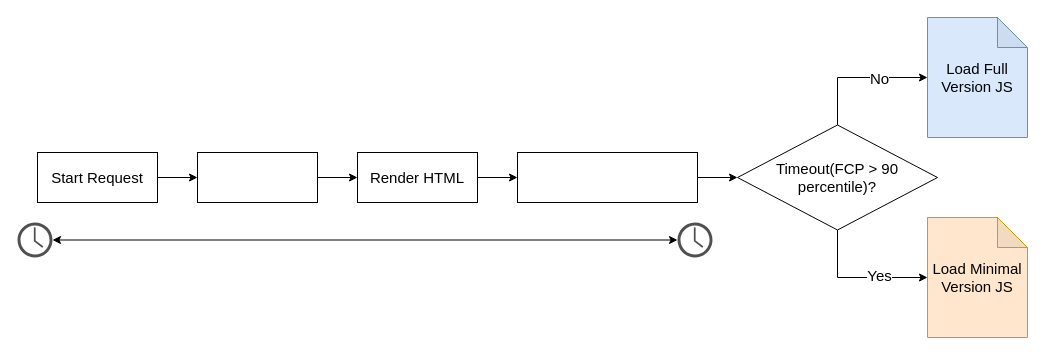
Some shapes in this 1045 by 355 pixel diagram are drawn without their labels. The shapes that lost their labels are listed below. From the top down, each one's centre as x and y in pixels, then its label:
point 257,177: Respond
point 607,177: First Contentful Paint
